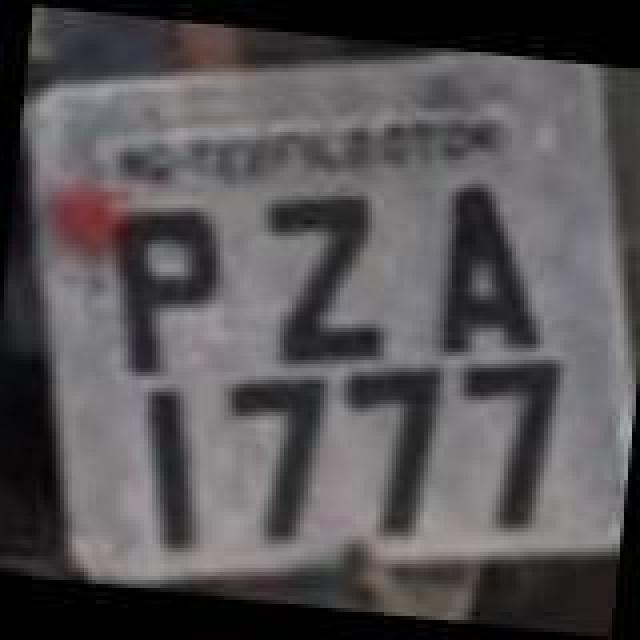1: (130, 378, 222, 558)
7: (324, 360, 444, 544), (444, 350, 564, 530), (214, 368, 330, 544)
A: (430, 178, 554, 366)
P: (96, 200, 232, 392)
Z: (254, 186, 402, 374)
